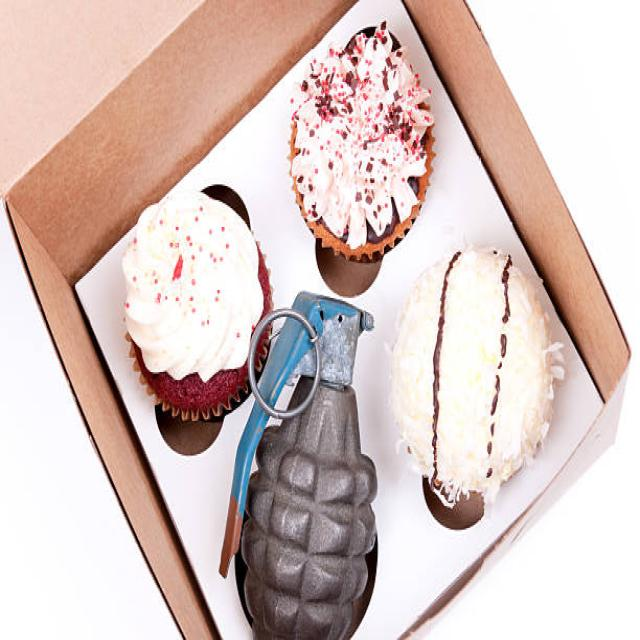grenade: (220, 290, 388, 640)
